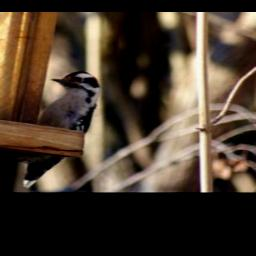Woodpecker: (0, 71, 101, 187)
